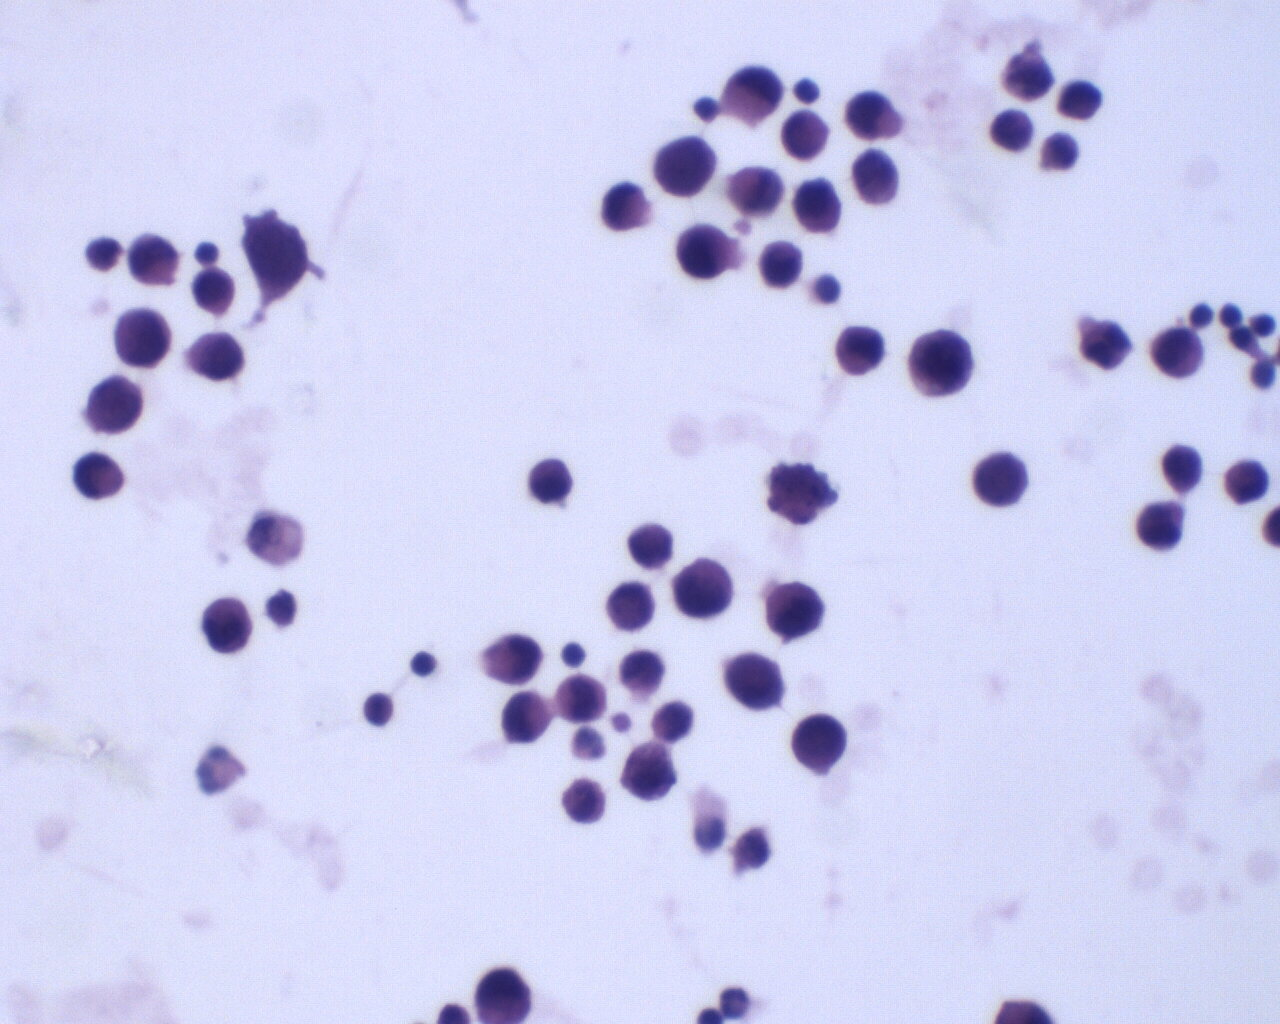ab: (904, 329, 976, 400), (651, 133, 723, 203), (759, 579, 827, 639), (670, 554, 734, 616), (112, 305, 174, 369), (787, 711, 848, 773), (471, 963, 534, 1024), (82, 376, 145, 433), (848, 147, 905, 211), (675, 220, 735, 279), (200, 595, 256, 656), (1150, 322, 1206, 385), (183, 328, 248, 381), (973, 447, 1026, 511), (1132, 499, 1193, 554), (789, 177, 845, 235), (834, 321, 888, 380), (552, 670, 608, 726), (755, 239, 807, 290)
lymph: (360, 689, 401, 729)
